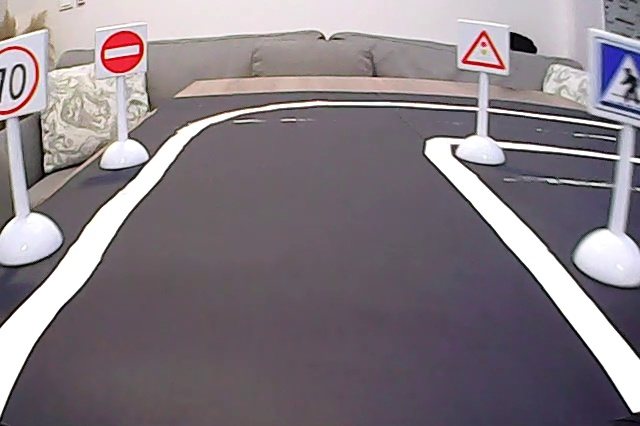do not enter: (97, 29, 149, 79)
pedestrian crossing: (592, 36, 640, 118)
red light: (461, 24, 508, 72)
speed limit 70: (1, 39, 45, 118)
